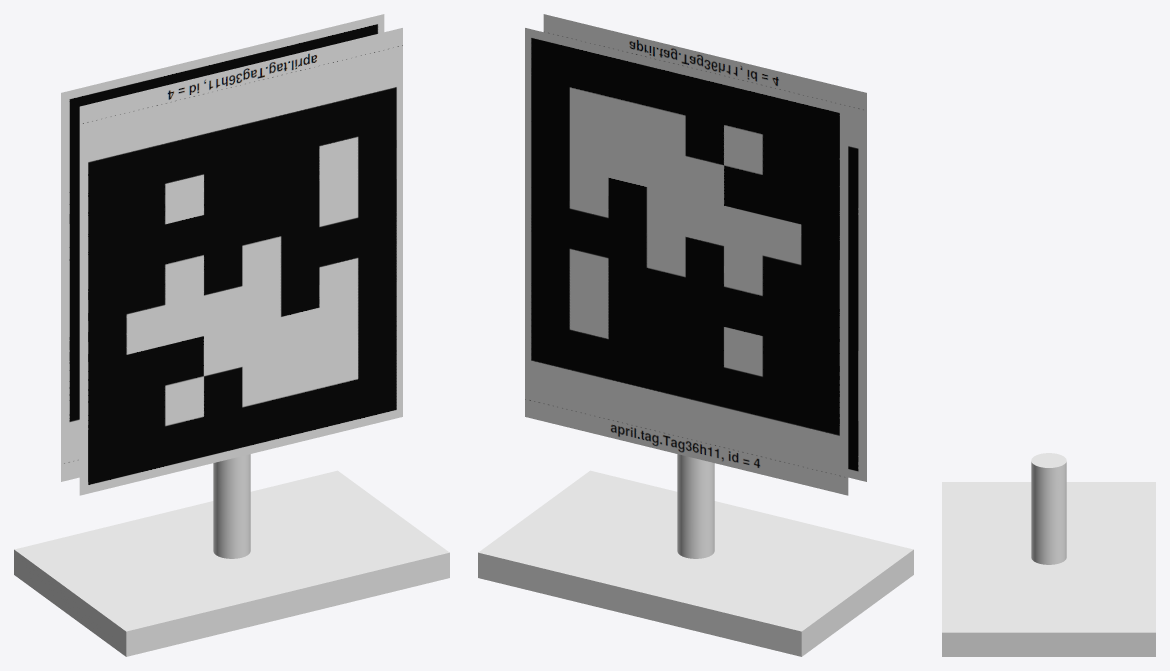
File: tag4.dae
3 views of the same model, side by side, from view 1: azimuth 30°, elevation 25°; view 2: azimuth 150°, elevation 25°; view 3: azimuth 270°, elevation 25° (orthographic). The views are drawn at different scales.
Parts seen in each view (by area): view 1: image_2, tag (×3), image_1, image_0; view 2: image_1, tag (×3), image_2, image_0; view 3: tag (×3).
Part boxes in pixels (x1,y1,x2,y2): image_2: [79, 28, 402, 495]; tag (×3): [14, 454, 449, 656]; image_1: [61, 14, 384, 481]; image_0: [70, 538, 150, 570]; image_1: [525, 28, 848, 495]; tag (×3): [478, 454, 913, 656]; image_2: [543, 14, 866, 481]; image_0: [735, 579, 810, 602]; tag (×3): [942, 453, 1155, 656].
Size of the model in its own units: 7.87 by 4.72 by 12.
4 materials, 2 textured.
